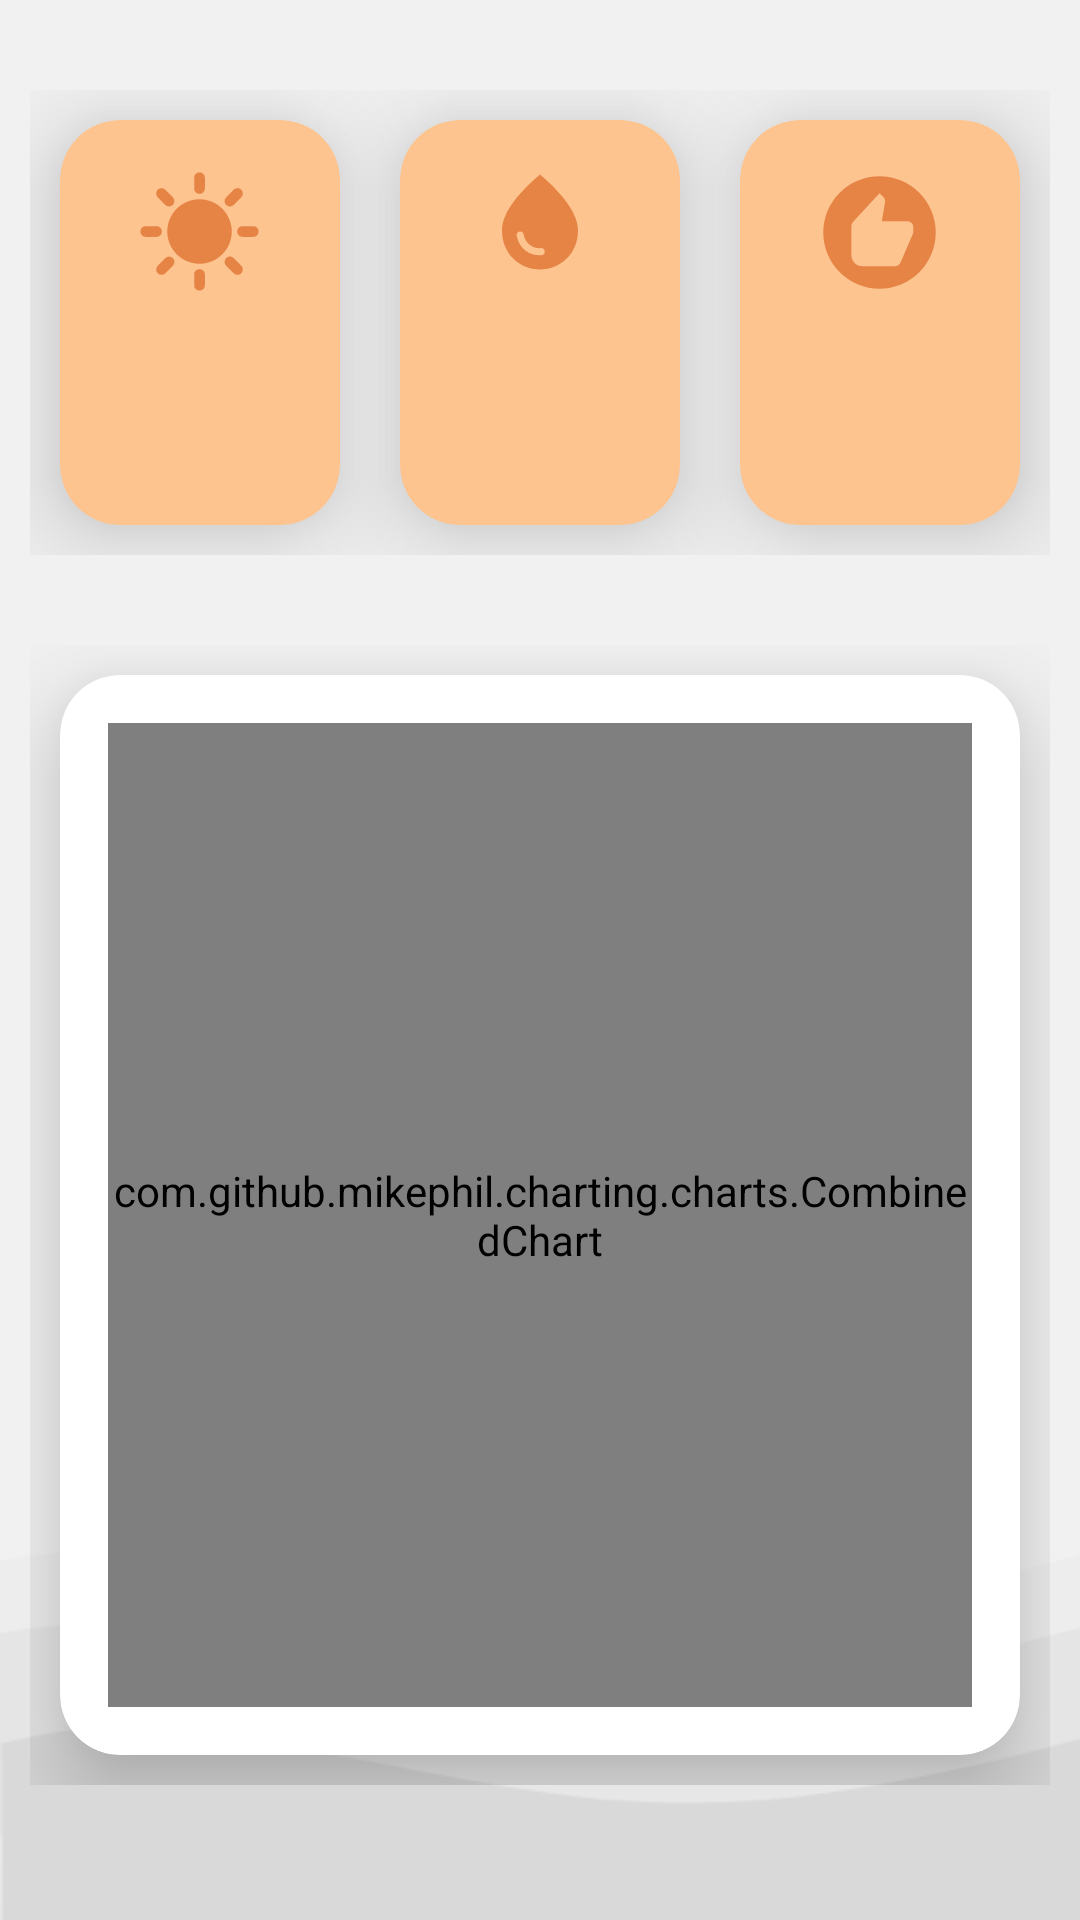

Icons on this 1080*1920 Android screen, each with the point to tap as [x,y]:
hum: [540,222]
